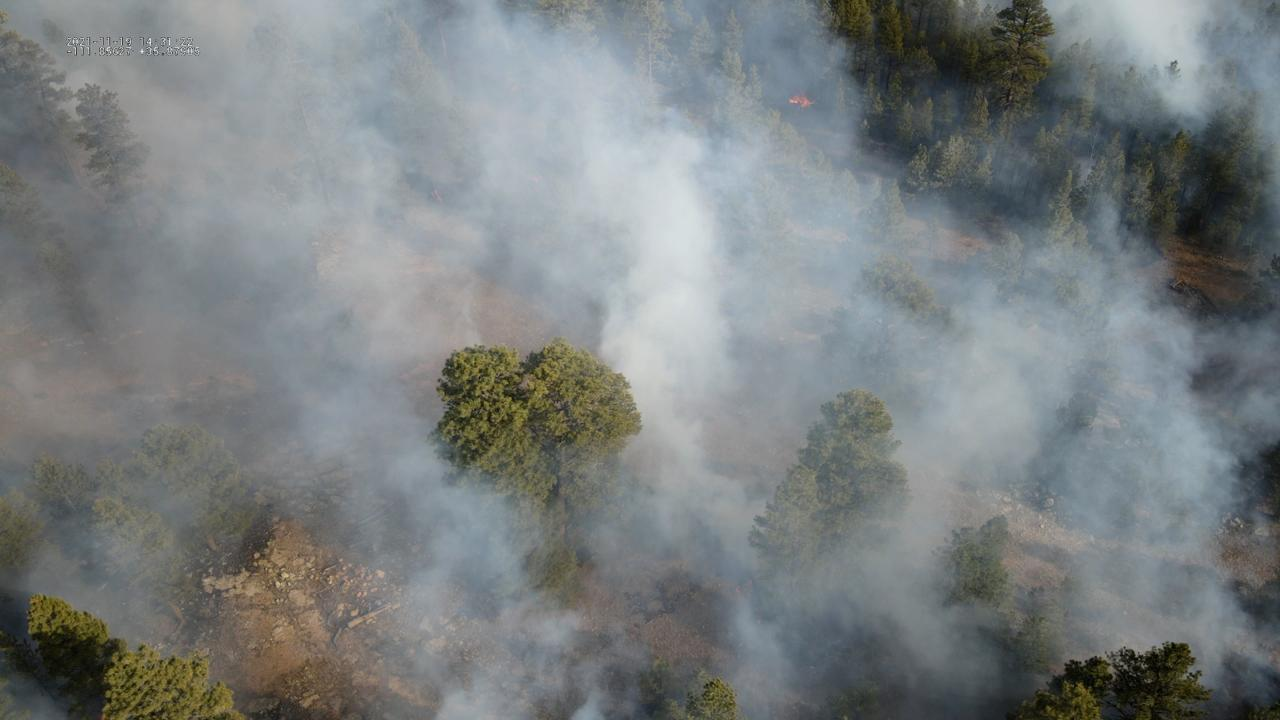fire: (786, 89, 819, 109)
smoke: (0, 0, 1280, 720)
